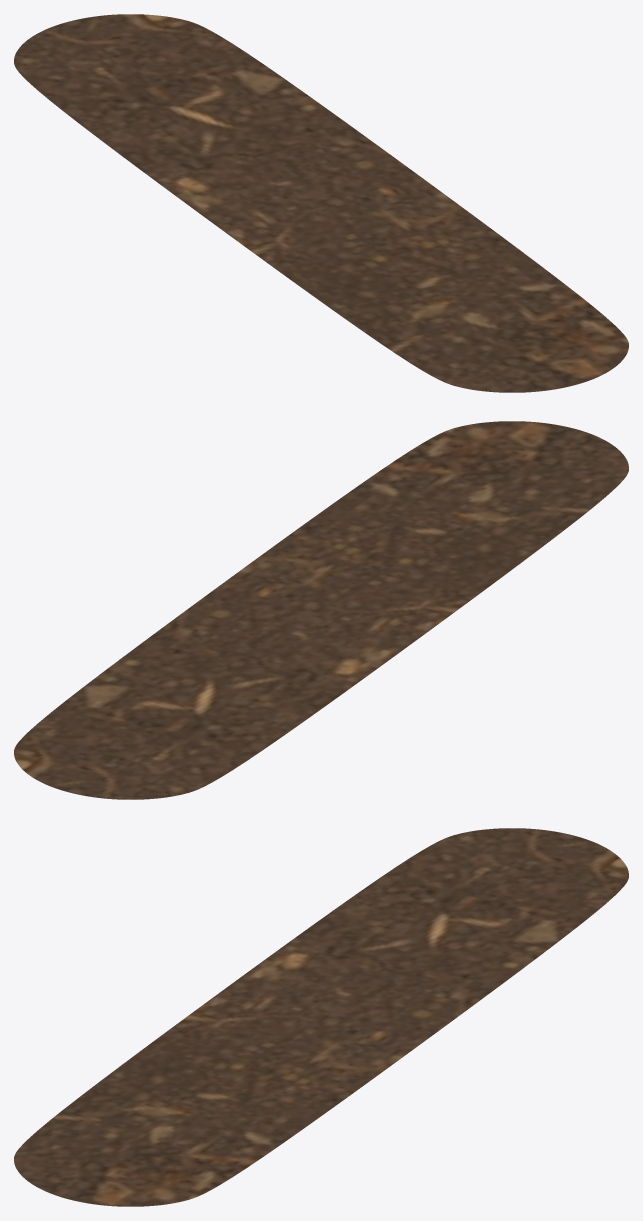
The model's file is terra.fbx.
3 views of the same model, one above another, from view 1: azimuth 30°, elevation 25°; view 2: azimuth 150°, elevation 25°; view 3: azimuth 330°, elevation 25° (orthographic).
Visible parts, largest first — view 1: terra; view 2: terra; view 3: terra.
Boxes of the visible parts, x1,y1,x2,y2 form: terra: (14,14,628,392); terra: (14,421,628,799); terra: (14,828,628,1206).
Size of the model in its own units: 846 by 2.67e-05 by 3592.
